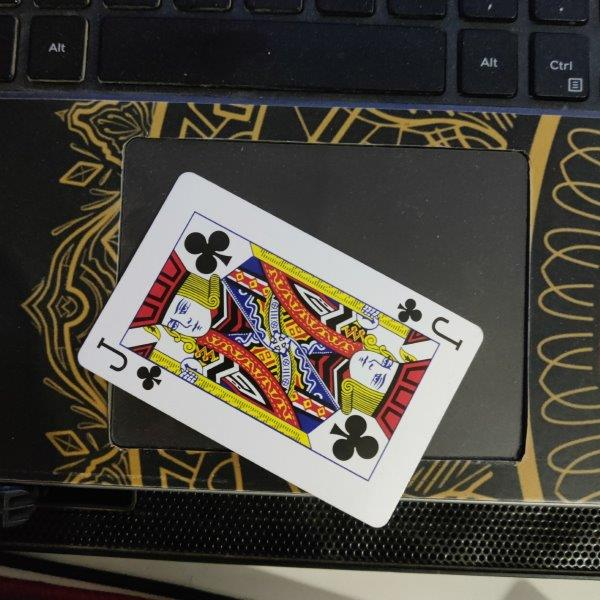Jack of Clubs: (77, 171, 483, 529)
